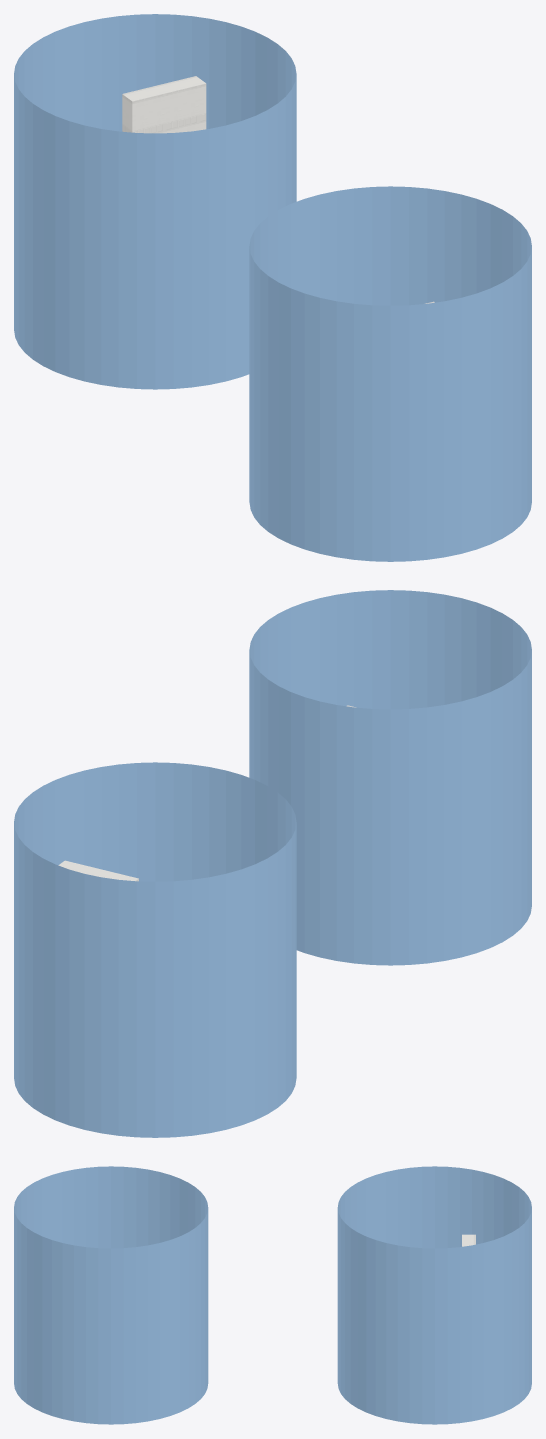
File: house_1.glb
The picture shows the model from 3 angles, top to bottom: view 1: azimuth 30°, elevation 25°; view 2: azimuth 150°, elevation 25°; view 3: azimuth 270°, elevation 25°; orthographic projection. The views are drawn at different scales.
Visible parts, largest first — view 1: house_1_lm_2, house_1_fx_1, house_1_lm_1; view 2: house_1_fx_1, house_1_lm_2; view 3: house_1_lm_2, house_1_fx_1.
Part boxes in pixels (x1,y1,x2,y2): house_1_lm_2: (249, 186, 531, 561); house_1_fx_1: (14, 14, 296, 389); house_1_lm_1: (122, 76, 206, 133); house_1_fx_1: (14, 762, 296, 1137); house_1_lm_2: (249, 590, 531, 965); house_1_lm_2: (14, 1166, 208, 1424); house_1_fx_1: (337, 1166, 531, 1424).
Bounding box in the file's own units: 18 × 18 × 48.
Materials: 46 (37 with a texture image).
